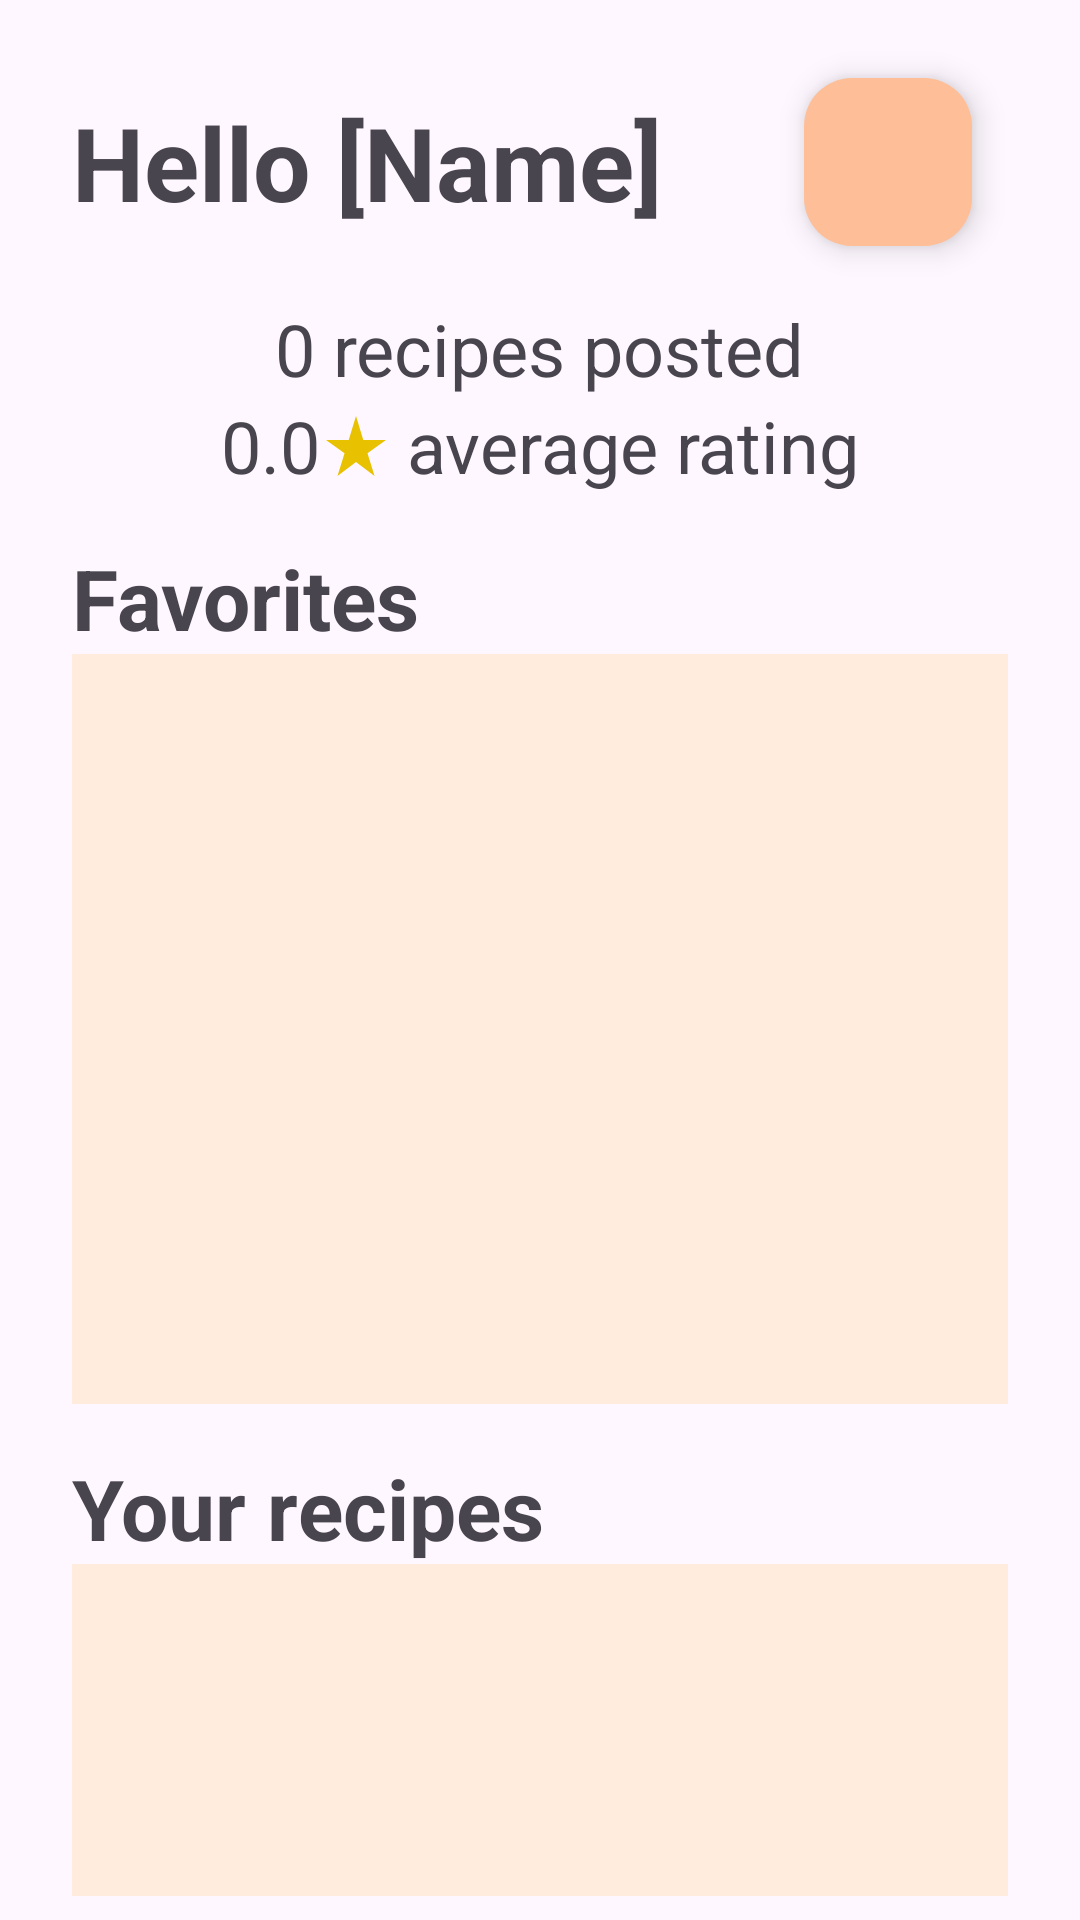

Icon bounding boxes for this 1080 × 1920 phone screenshot, format (x1, y1, x2, y2):
gold star: (326, 416, 386, 476)
